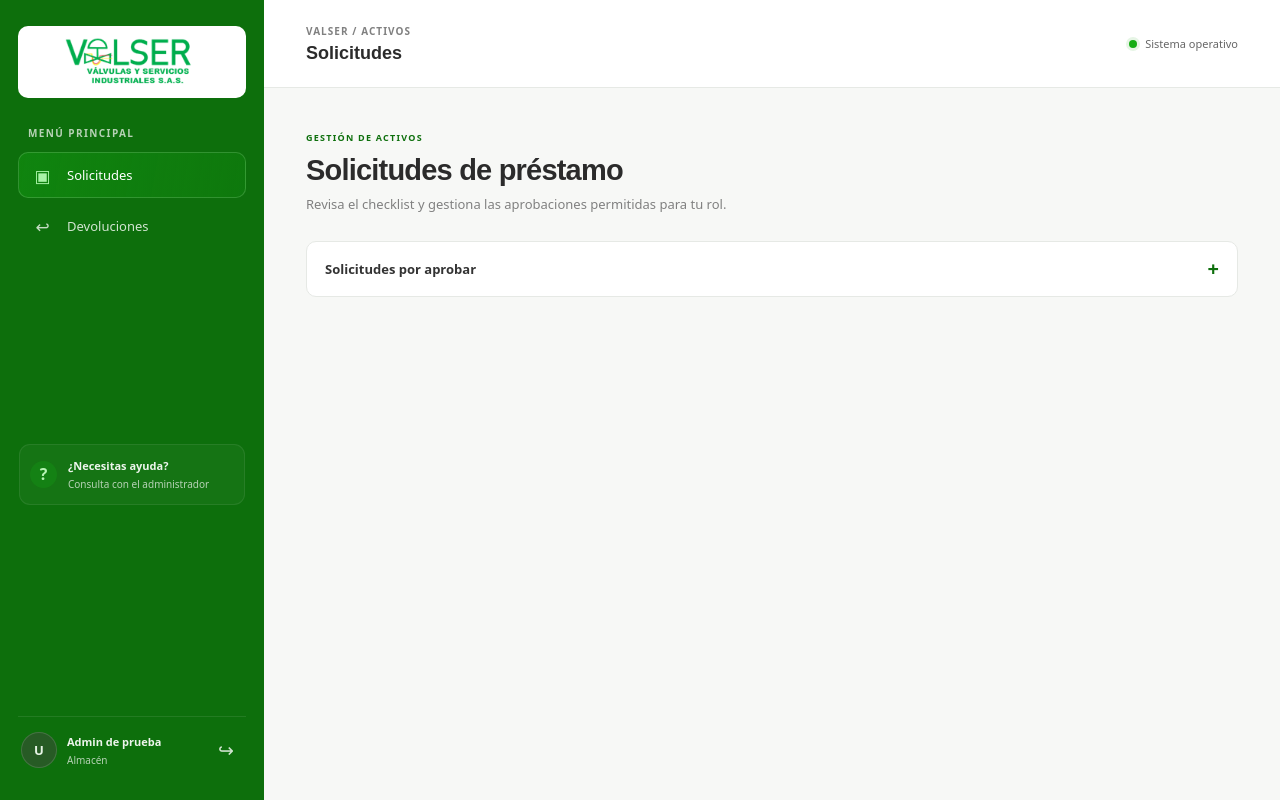
Scenario: Autenticación y navegación › dirige a Almacén al checklist y no habilita nuevas solicitudes de préstamo
The image size is (1280, 800).
Expected: the heading "Solicitudes de préstamo" is shown, 306,154 -> 623,186
Click the button "Solicitudes por aprobar +".
click(401, 269)  # box 306,241 -> 1238,297
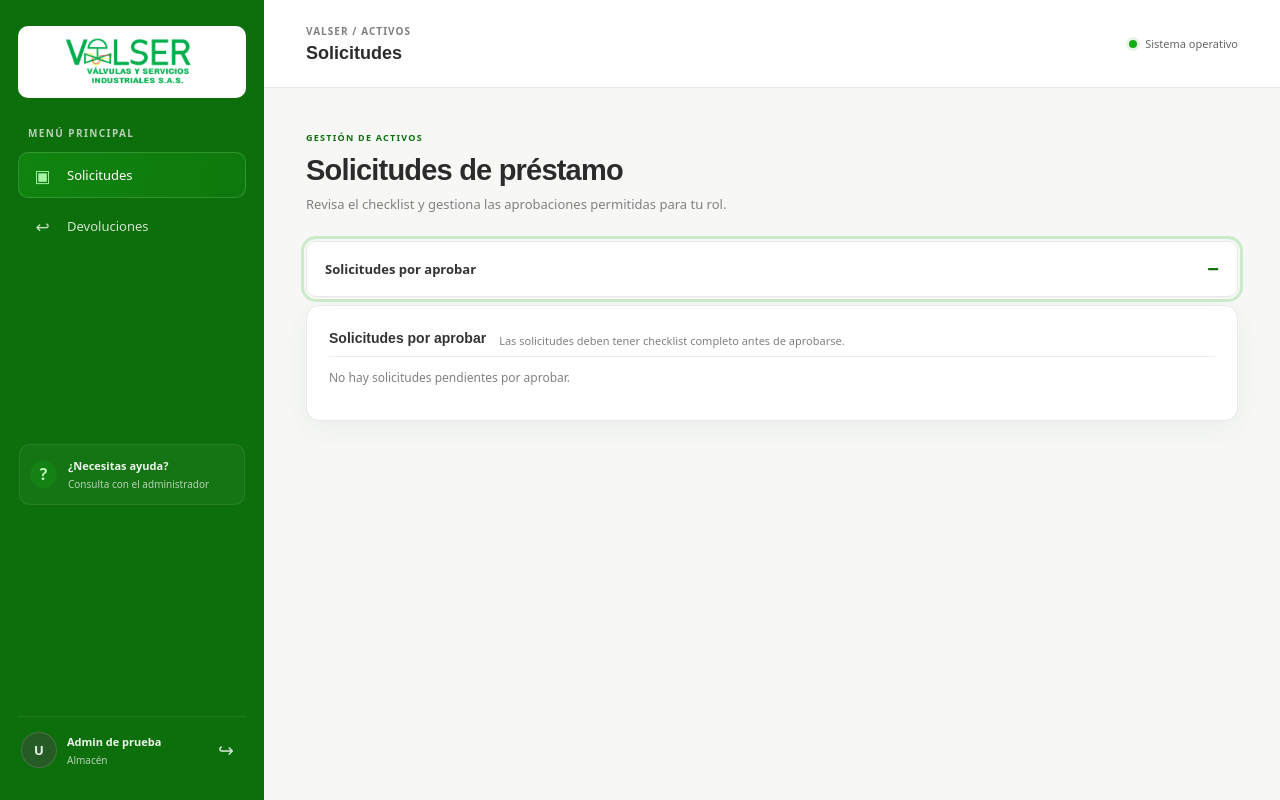
Expected: the link "▣ Solicitudes" is shown, 18,152 -> 246,198
Expected: the heading "Solicitudes por aprobar" is shown, 329,330 -> 486,346
